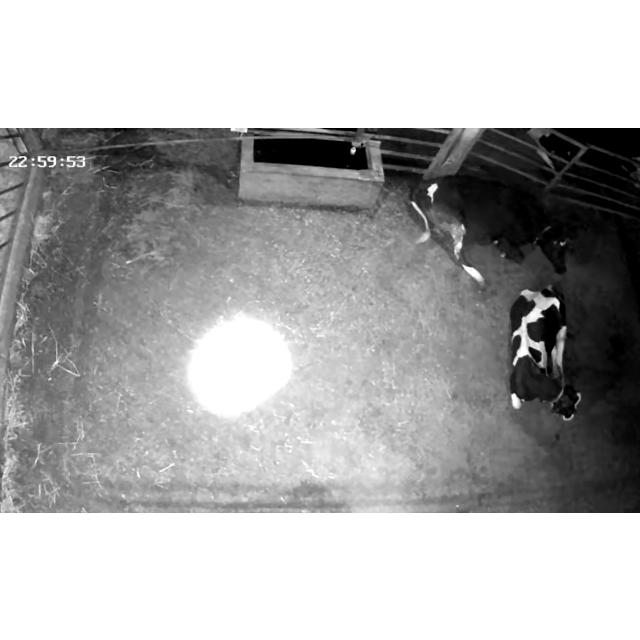lay: (407, 167, 578, 286), (502, 283, 600, 432)
